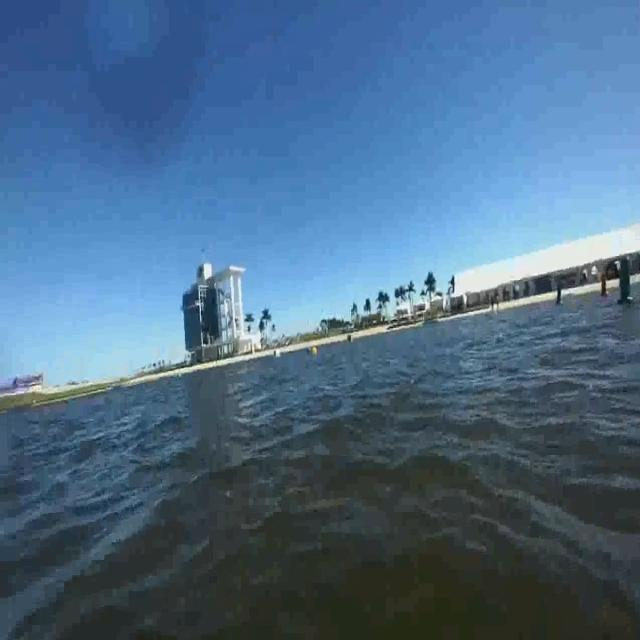green-column-buoy: (617, 256, 636, 306)
red-column-buoy: (596, 270, 608, 302)
yellow-buoy: (311, 345, 318, 357)
